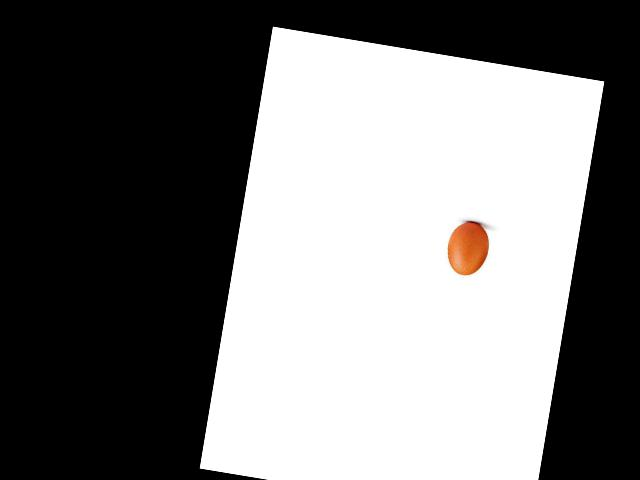egg: (444, 219, 492, 277)
